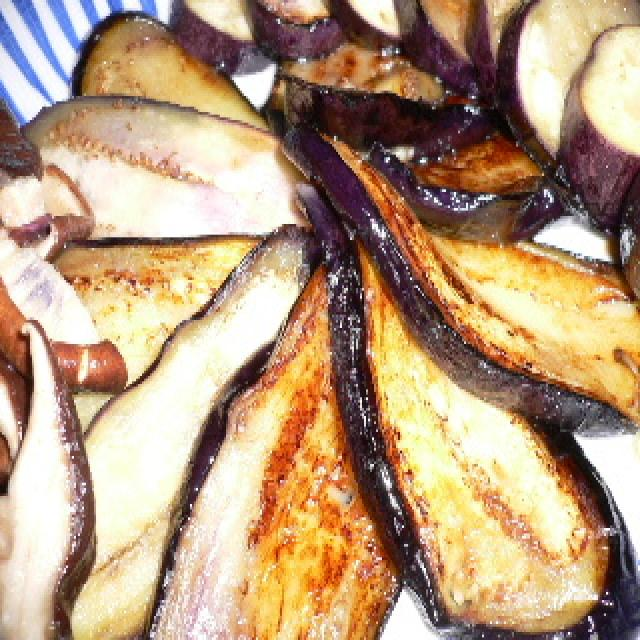鸡蛋料理: (0, 0, 640, 635)
